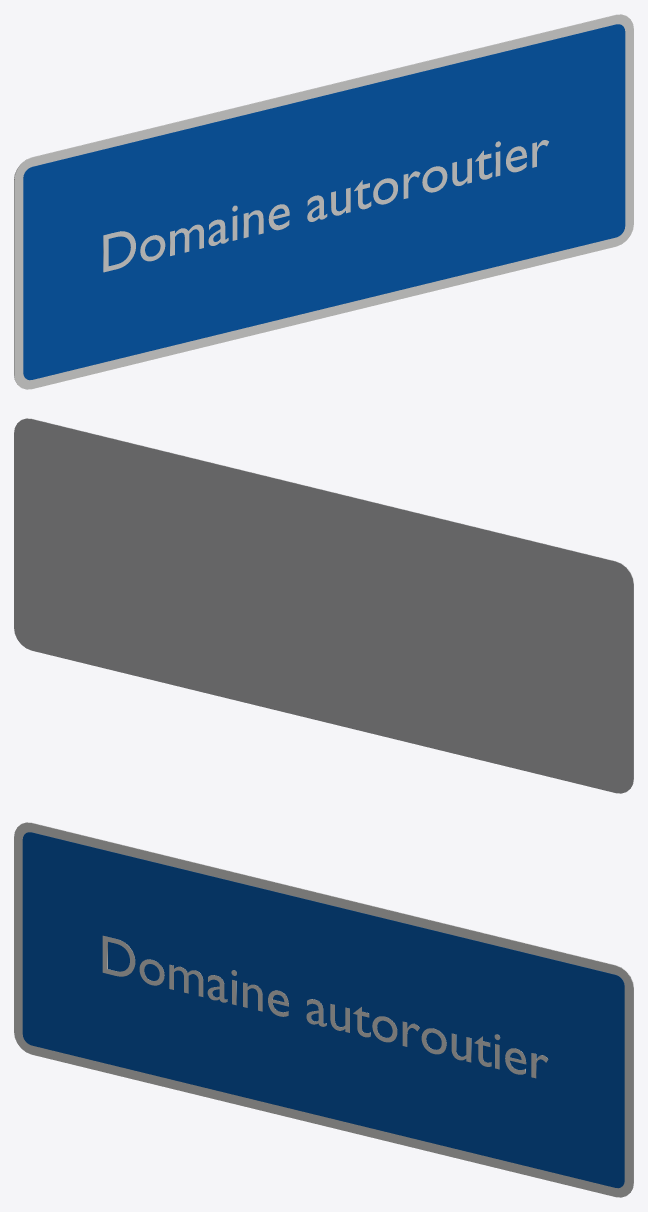
The picture shows the model from 3 angles, top to bottom: view 1: azimuth 30°, elevation 25°; view 2: azimuth 150°, elevation 25°; view 3: azimuth 330°, elevation 25°; orthographic projection.
Parts seen in each view (by area): view 1: E38_fond01, E38_cadre00, E38_txt02, E38_dos; view 2: E38_dos; view 3: E38_fond01, E38_cadre00, E38_txt02, E38_dos.
Boxes of the visible parts, x1,y1,x2,y2 form: E38_fond01: [23, 24, 625, 380]; E38_cadre00: [14, 14, 633, 389]; E38_txt02: [103, 140, 548, 272]; E38_dos: [14, 14, 622, 384]; E38_dos: [14, 418, 633, 793]; E38_fond01: [22, 832, 624, 1188]; E38_cadre00: [14, 822, 633, 1197]; E38_txt02: [102, 935, 548, 1078]; E38_dos: [25, 822, 633, 1192].
Size of the model in its own units: 1.4 by 0.5 by 0.0025.
